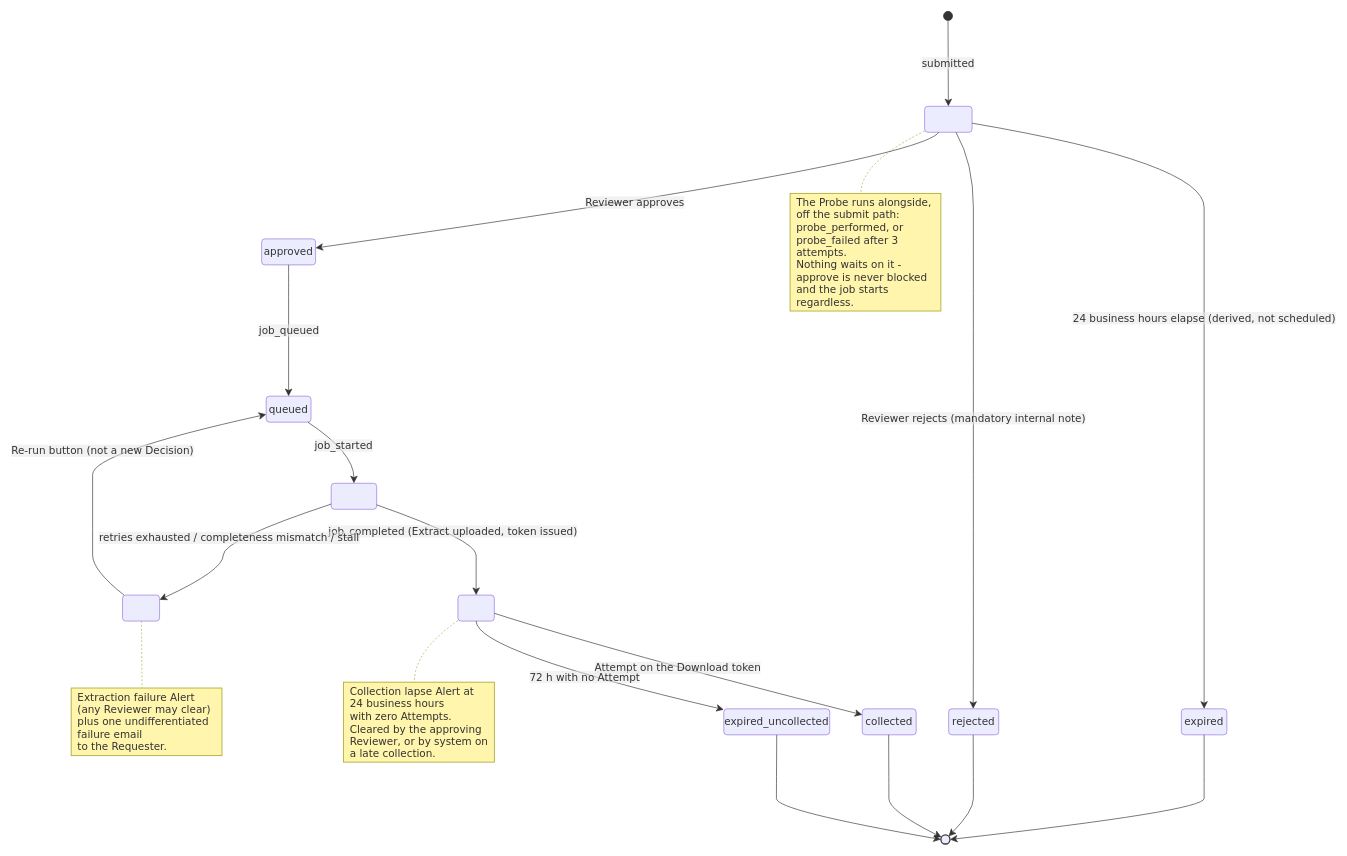
Some shapes in this 1347 by 856 pixel diagram are drawn without their labels. The box of each missing label's shape, as (x1, y1, x2, y2) in pixels:
failed: (122, 594, 160, 621)
pending: (924, 106, 972, 132)
ready: (457, 594, 494, 621)
running: (331, 483, 377, 509)
